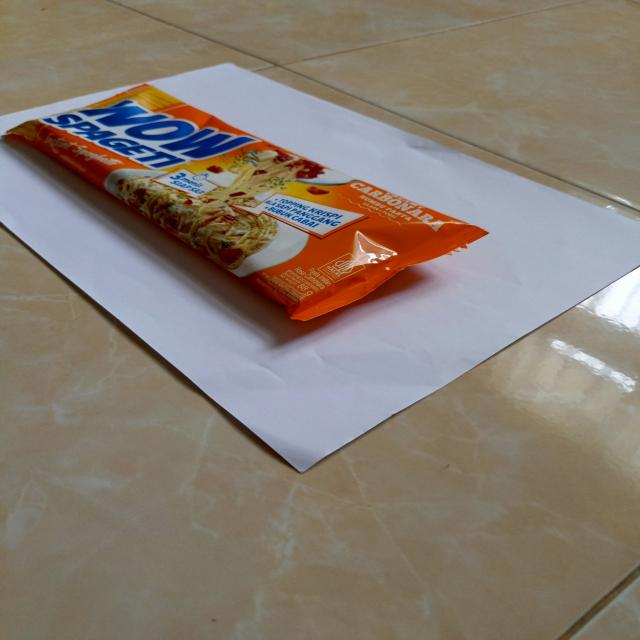indomie-tori-miso: (0, 80, 491, 324)
